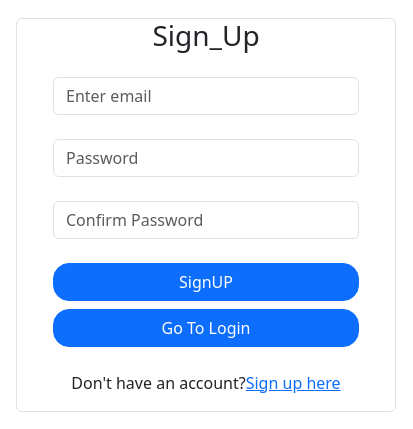
switches mode from signup to Login
Find the button element for switching to signup mode
What coordinates should you click on to do the following:
click the button "Go To Login"
I would click on:
 (206, 328)
Its box is [53,309,359,347].
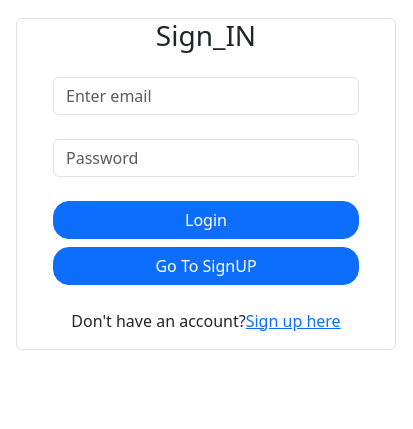
Check: the button "Go To SignUP" is shown, box [53,247,359,285]
Check: the heading "Sign_IN" is shown, box [156,16,256,54]
